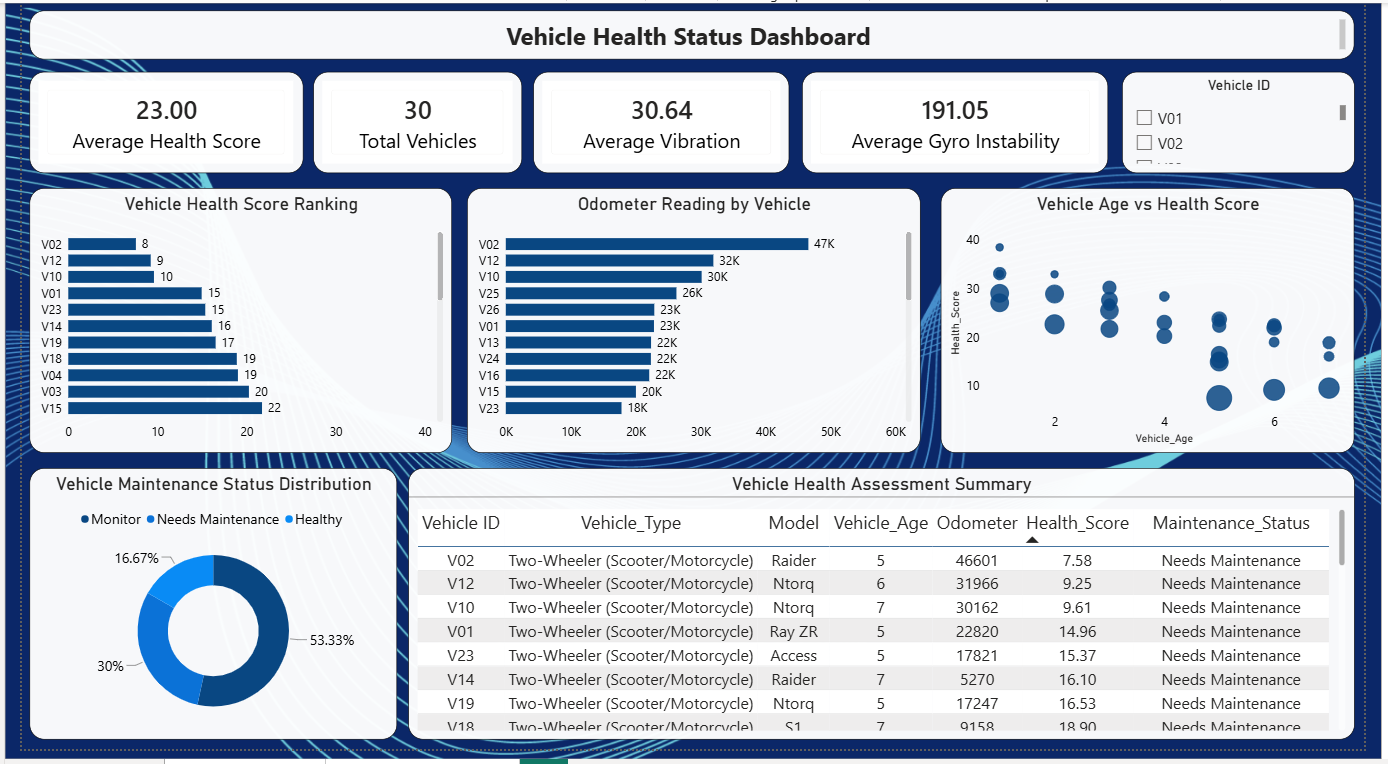

The dashboard page shown, as its layout file describes it:
{"tool":"powerbi","page":{"name":"Vehicle Health Status","canvas":[1800,1000],"ordinal":1},"visuals":[{"type":"cardVisual","fields":{"Data":["Vehicle_Summary_Final.Average Health Score"]},"box":[10.1,92.2,367,135.7],"z":0},{"type":"cardVisual","fields":{"Data":["Sum(Vehicle_Summary_Final.Avg Gyro Instability)"]},"box":[1045.6,92.2,410.5,135.7],"z":1000},{"type":"cardVisual","fields":{"Data":["Sum(Vehicle_Summary_Final.Avg  Vibration)"]},"box":[685.3,92.2,343.5,135.7],"z":2000},{"type":"cardVisual","fields":{"Data":["Vehicles.Vehicle Count"]},"box":[390.4,92.2,279.8,135.7],"z":3000},{"type":"clusteredBarChart","title":"Vehicle Health Score Ranking","fields":{"Category":["Vehicle_Summary_Final.Vehicle ID"],"Y":["Sum(Vehicle_Summary_Final.Health_Score)"]},"box":[10.1,248,566.4,355.2],"z":4000},{"type":"scatterChart","title":"Vehicle Age vs Health Score","fields":{"X":["Vehicle_Summary_Final.Vehicle_Age"],"Y":["Vehicle_Summary_Final.Health_Score"],"Size":["Sum(Vehicle_Summary_Final.Odometer)"]},"box":[1231.6,248,554.6,355.2],"z":5000},{"type":"donutChart","title":"Vehicle Maintenance Status Distribution","fields":{"Category":["Vehicle_Summary_Final.Maintenance_Status"],"Y":["CountNonNull(Vehicle_Summary_Final.Vehicle ID)"]},"box":[10.1,623.3,492.6,363.6],"z":6000},{"type":"clusteredBarChart","title":"Odometer Reading by Vehicle","fields":{"Category":["Vehicle_Summary_Final.Vehicle ID"],"Y":["Sum(Vehicle_Summary_Final.Odometer)"]},"box":[596.5,248,608.2,355.2],"z":7000},{"type":"tableEx","title":"Vehicle Health Assessment Summary","fields":{"Values":["Vehicle_Summary_Final.Vehicle ID","Vehicle_Summary_Final.Vehicle_Type","Vehicle_Summary_Final.Model","Vehicle_Summary_Final.Vehicle_Age","Vehicle_Summary_Final.Odometer","Vehicle_Summary_Final.Health_Score","Vehicle_Summary_Final.Maintenance_Status"]},"box":[517.8,623.3,1268.4,363.6],"z":8000},{"type":"slicer","title":"Vehicle ID","fields":{"Values":["Vehicle_Summary_Final.Vehicle ID"]},"box":[1474.5,92.2,311.7,135.7],"z":9000},{"type":"textbox","box":[10.1,10.1,1776.1,65.3],"z":10000}]}

Visuals, with their boxes in screenshot pixels (x1, y1, x2, y2), scaled from the page's 1800x1000 canvas onto the 1388x764 screenshot:
cardVisual - Vehicle_Summary_Final.Average Health Score: [8, 70, 291, 174]
cardVisual - Sum(Vehicle_Summary_Final.Avg Gyro Instability): [806, 70, 1123, 174]
cardVisual - Sum(Vehicle_Summary_Final.Avg  Vibration): [528, 70, 793, 174]
cardVisual - Vehicles.Vehicle Count: [301, 70, 517, 174]
"Vehicle Health Score Ranking" clusteredBarChart: [8, 189, 445, 461]
"Vehicle Age vs Health Score" scatterChart: [950, 189, 1377, 461]
"Vehicle Maintenance Status Distribution" donutChart: [8, 476, 388, 754]
"Odometer Reading by Vehicle" clusteredBarChart: [460, 189, 929, 461]
"Vehicle Health Assessment Summary" tableEx: [399, 476, 1377, 754]
"Vehicle ID" slicer: [1137, 70, 1377, 174]
textbox: [8, 8, 1377, 58]
